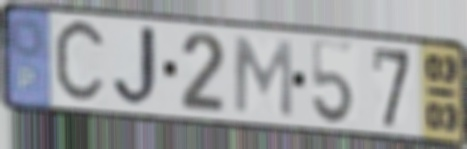2: (178, 30, 230, 117)
5: (309, 36, 360, 128)
7: (371, 45, 413, 130)
C: (52, 16, 110, 109)
J: (110, 23, 165, 111)
M: (232, 34, 295, 121)
